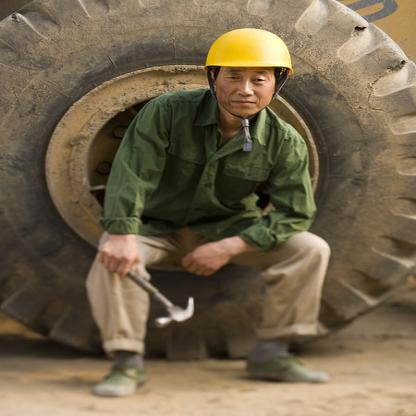helmet: (182, 26, 307, 128)
